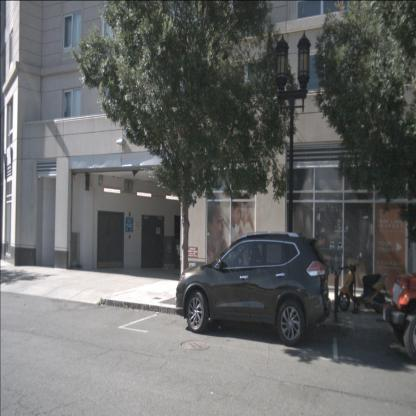vehicle-car: (176, 235, 331, 346), (382, 271, 415, 365)
vehicle-motorcycle: (337, 252, 391, 314)
